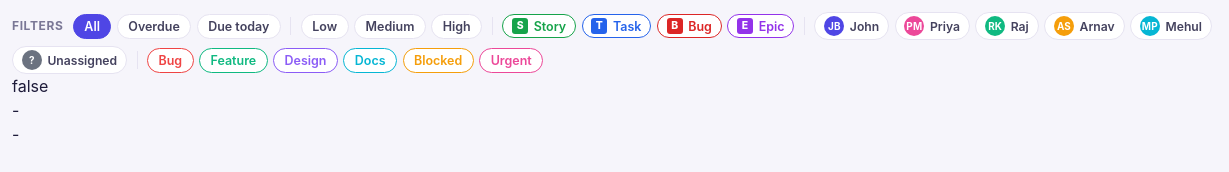
Scenario: FilterBar › label chip click adds to labels list
Step 1. Click the button "Urgent" → (511, 60), box [479, 48, 543, 73]
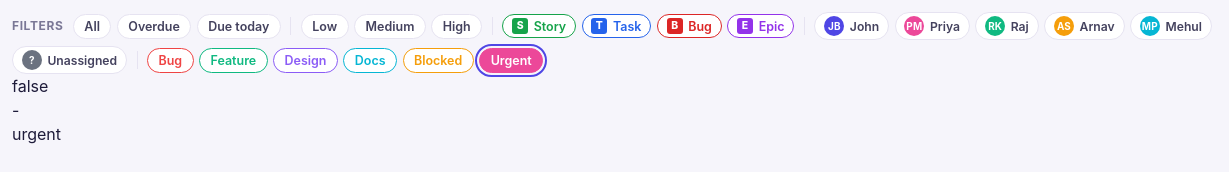
Now the text with test id "labels" reads "urgent", box [12, 124, 61, 144]
